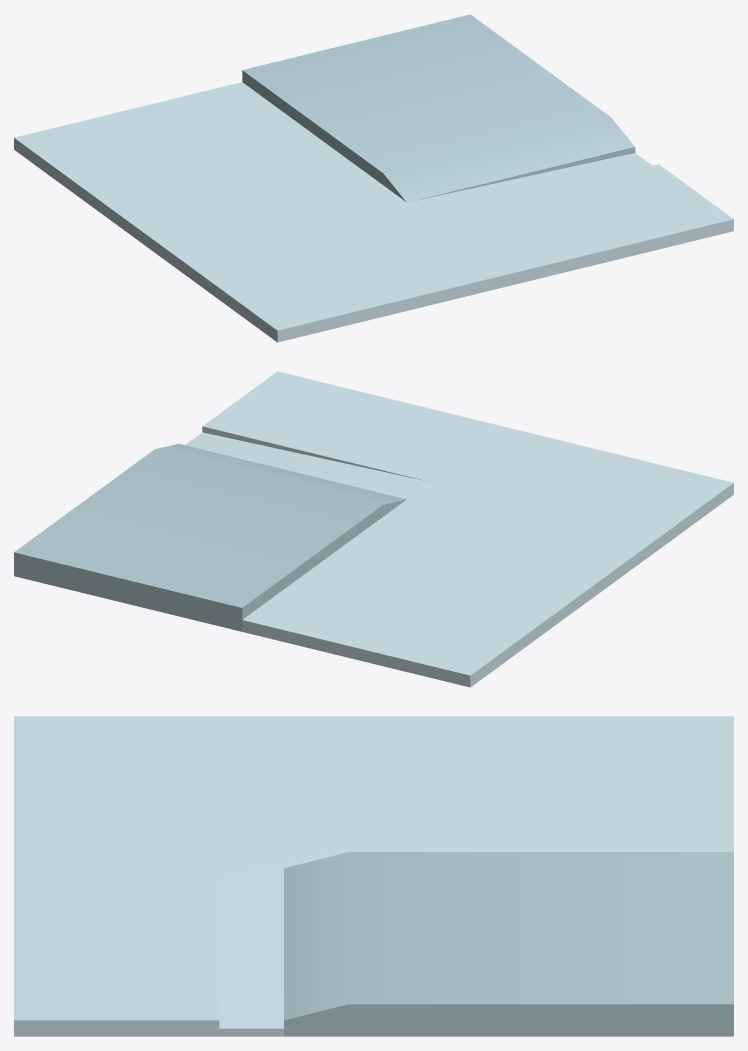
3 renders of one model, top to bottom at view 1: azimuth 30°, elevation 25°; view 2: azimuth 150°, elevation 25°; view 3: azimuth 270°, elevation 25°, orthographic. The views are drawn at different scales.
Parts seen in each view (by area): view 1: roadCurbEnd; view 2: roadCurbEnd; view 3: roadCurbEnd.
Part boxes in pixels (box(x1,y1,x2,y2)): roadCurbEnd: box(14, 14, 733, 342); roadCurbEnd: box(14, 371, 733, 687); roadCurbEnd: box(14, 716, 733, 1036).
Bounding box in the file's own units: 1 × 0.05 × 1.
